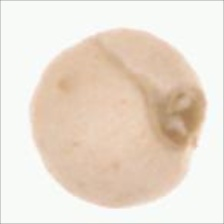L3: (142, 85, 204, 156)
L4: (30, 29, 205, 207)
